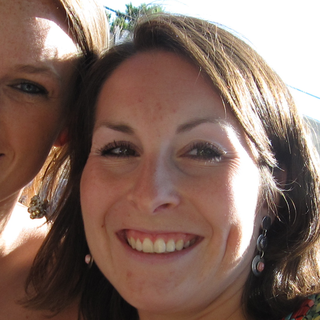eye: (167, 138, 229, 167), (5, 70, 50, 108), (95, 132, 145, 164)
